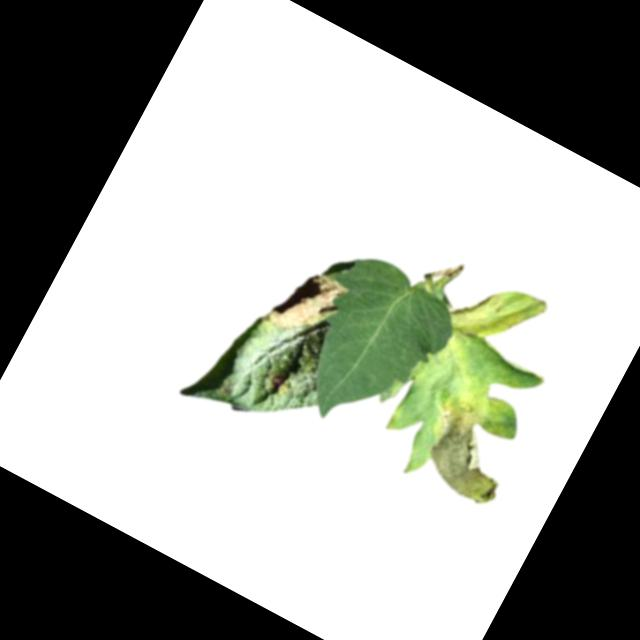Late_blight: (404, 373, 538, 513), (260, 257, 350, 352), (444, 274, 529, 357), (261, 370, 295, 400)
healthy: (275, 243, 468, 454)
